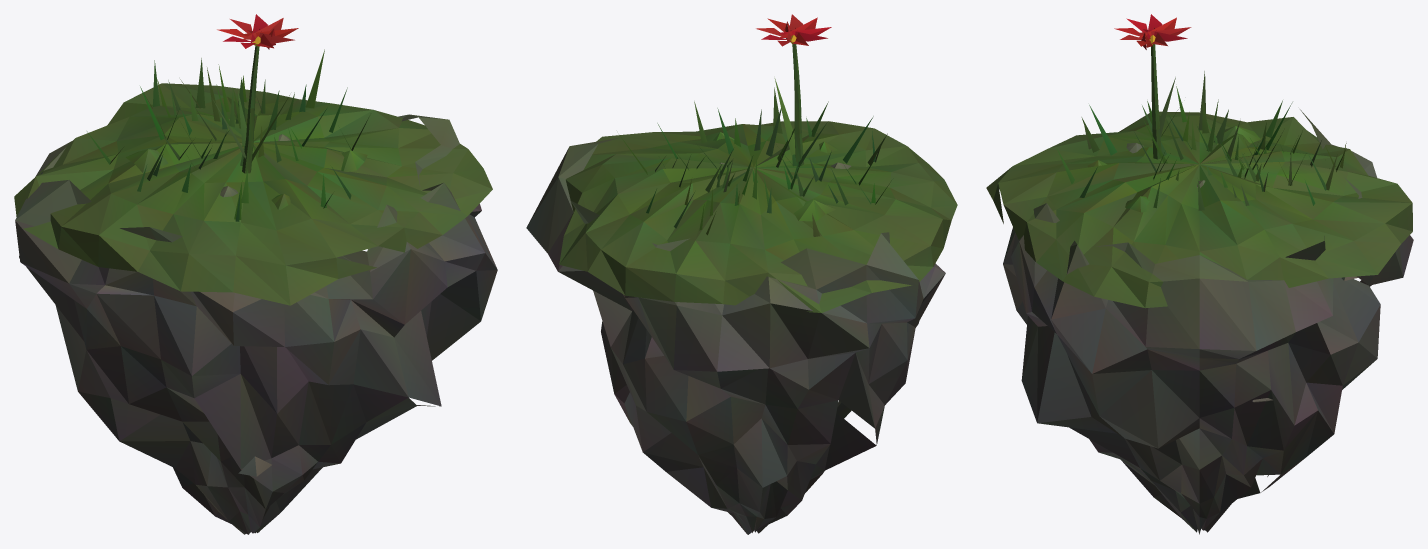
Rendered from hero-island.glb.
The picture shows the model from 3 angles, left to right: view 1: azimuth 30°, elevation 25°; view 2: azimuth 150°, elevation 25°; view 3: azimuth 270°, elevation 25°; orthographic projection. The views are drawn at different scales.
Visible parts, largest first — view 1: floating_island; view 2: floating_island; view 3: floating_island.
Part boxes in pixels (<box>): floating_island: <box>14,14,497,534</box>; floating_island: <box>526,14,957,534</box>; floating_island: <box>986,14,1413,534</box>.
Bounding box in the file's own units: 2.21 × 2.62 × 2.04.
